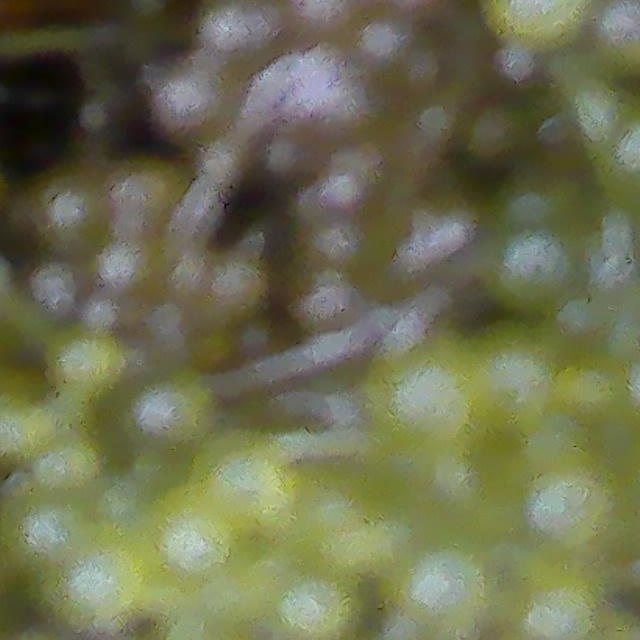SeaGrape: (388, 539, 496, 637), (35, 176, 102, 248), (205, 0, 270, 59), (158, 74, 221, 130)
